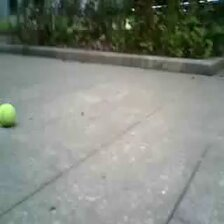tennis: (1, 103, 17, 126)
